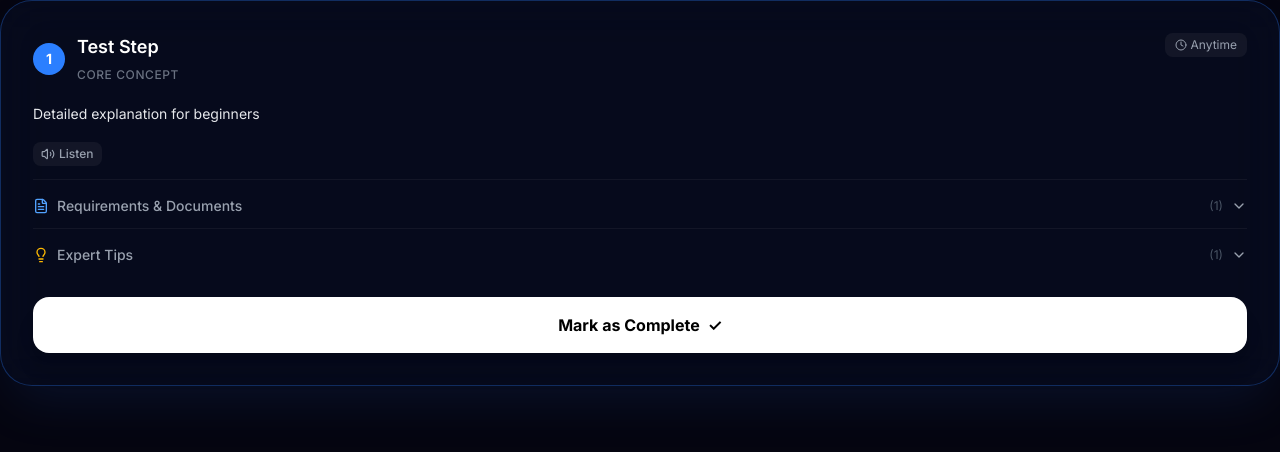
Test: StepCard › toggles tips visibility
Expected: the text "Bring water" is not shown
Click the text "Expert Tips": (95, 255) [57,246,133,263]
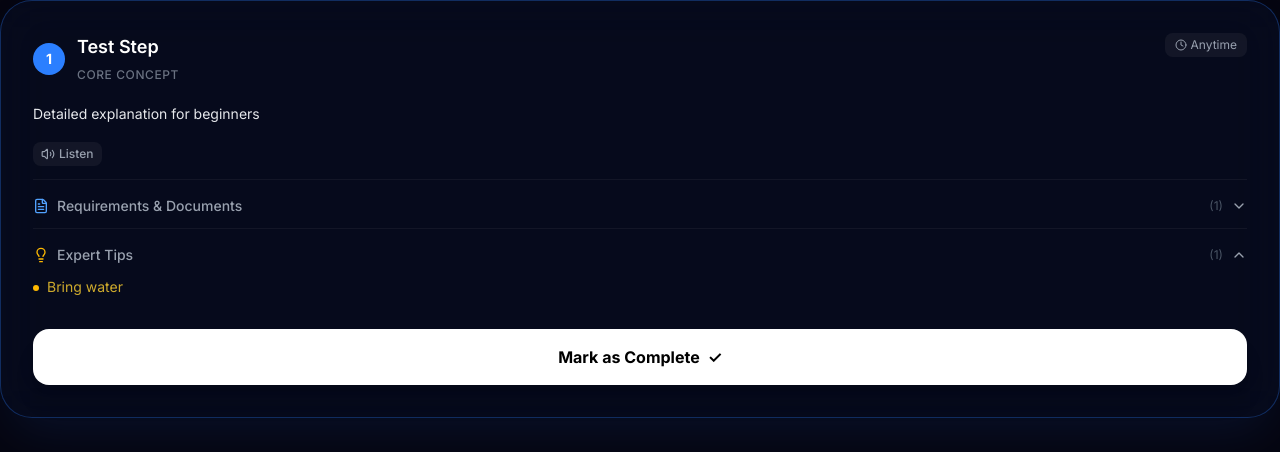
Now the text "Bring water" is shown, box [47,277,123,297]
